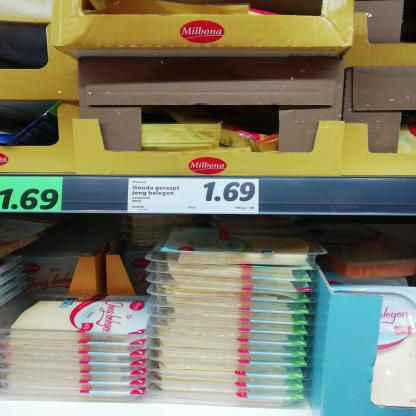prtg: (129, 179, 260, 215), (1, 177, 64, 213)
